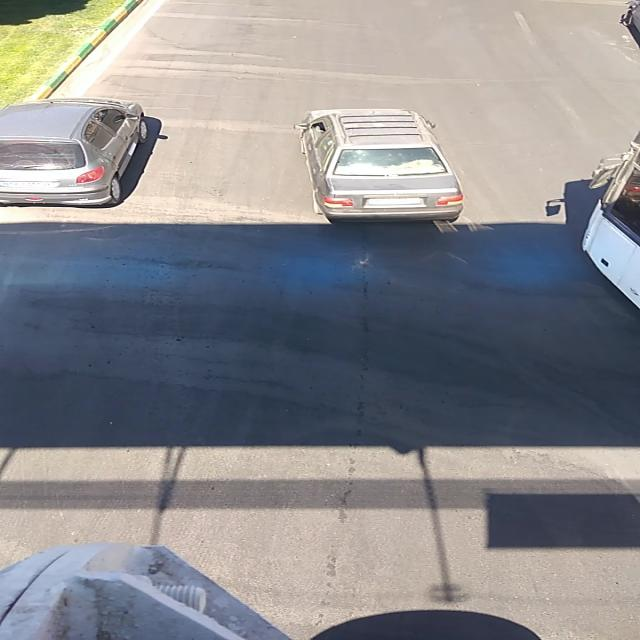car: (288, 108, 463, 224), (4, 99, 152, 207)
